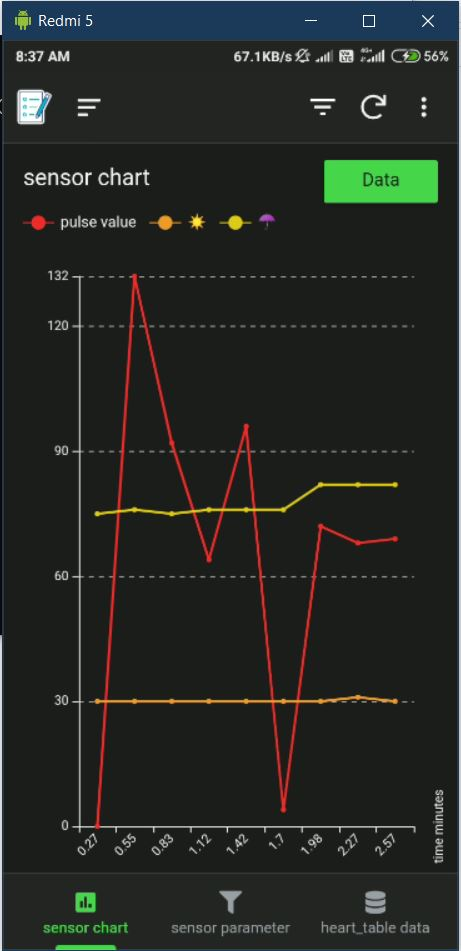

The dashboard page shown, as its layout file describes it:
{"tool":"powerbi","page":{"name":"Page 1","canvas":[1280,720],"ordinal":0},"visuals":[{"type":"card","fields":{"Values":["Max(testing.pulse)"]},"box":[348.8,96.1,189.5,131.8],"z":0},{"type":"card","fields":{"Values":["Min(testing.pulse)"]},"box":[848.8,96.1,189.5,131.8],"z":1000},{"type":"card","fields":{"Values":["Avg(testing.pulse)"]},"box":[601.5,96.1,189.5,131.8],"z":2000},{"type":"lineChart","title":"pulse by time","fields":{"Y":["Sum(testing.pulse)"],"Category":["testing.time"]},"box":[311.8,259.6,793.8,299.4],"z":3000},{"type":"textbox","box":[613.5,13.3,165.8,39.9],"z":4000}]}

Visuals, with their boxes on the page's 1280x720 design canvas (x1, y1, x2, y2). These are canvas units, not pixel positions in the 461x951 screenshot, which may show the page scaled, cropped or inside an application window:
card - Max(testing.pulse): <box>349,96,538,228</box>
card - Min(testing.pulse): <box>849,96,1038,228</box>
card - Avg(testing.pulse): <box>602,96,791,228</box>
"pulse by time" lineChart: <box>312,260,1106,559</box>
textbox: <box>614,13,779,53</box>
